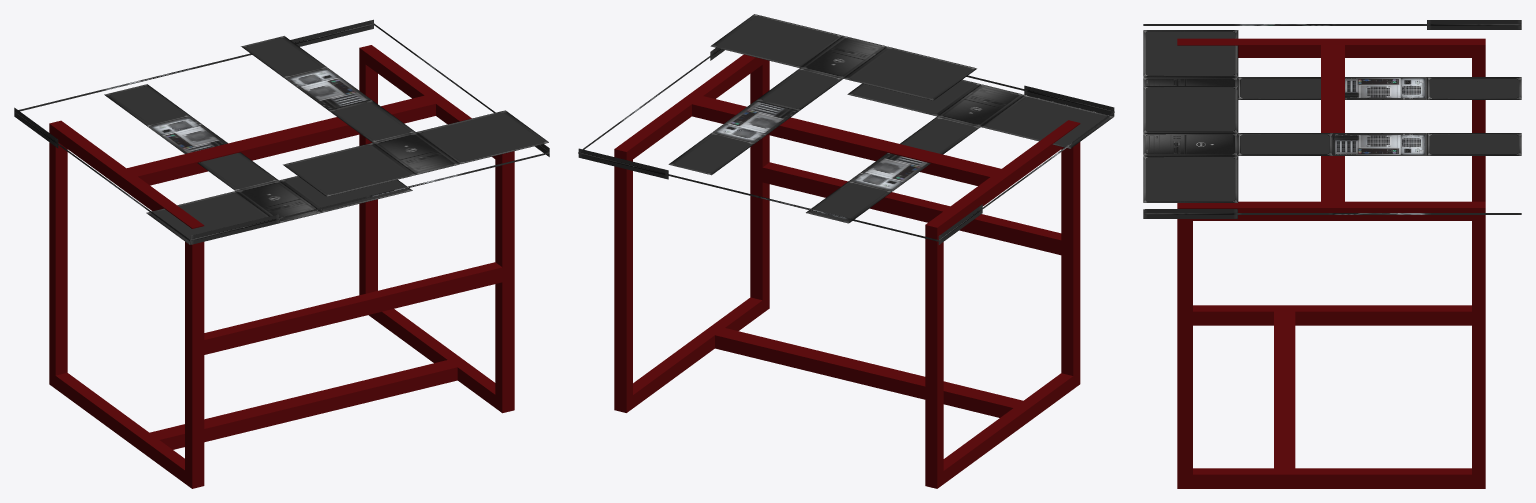
File: banco.fbx
3 views of the same model, side by side, from view 1: azimuth 30°, elevation 25°; view 2: azimuth 150°, elevation 25°; view 3: azimuth 270°, elevation 25° (orthographic). The views are drawn at different scales.
Visible parts, largest first — view 1: Cube.001; view 2: Cube.001; view 3: Cube.001.
Part boxes in pixels (left/top/right/bottom): Cube.001: left=14, top=19, right=549, bottom=488; Cube.001: left=578, top=14, right=1114, bottom=488; Cube.001: left=1143, top=20, right=1521, bottom=488.
Bounding box in the file's own units: 260 × 190 × 220.
